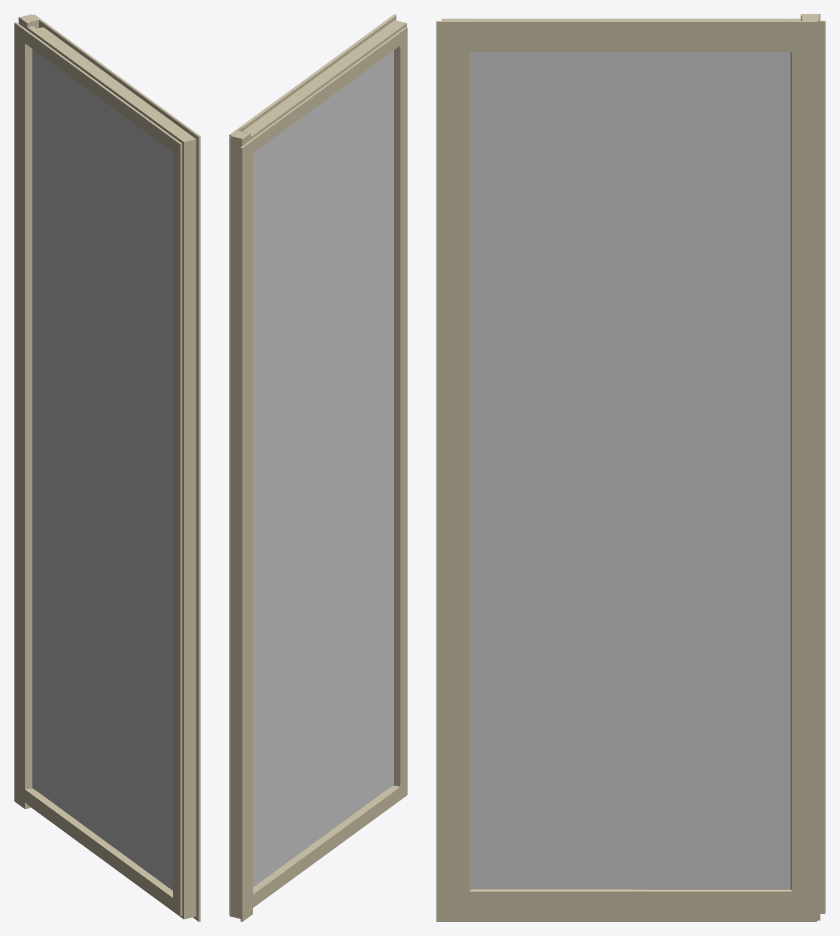
The model's file is MainDoor1aTransformed1.fbx.
3 views of the same model, side by side, from view 1: azimuth 30°, elevation 25°; view 2: azimuth 150°, elevation 25°; view 3: azimuth 270°, elevation 25° (orthographic). The views are drawn at different scales.
Parts seen in each view (by area): view 1: 45-25-28-344_- Aluminium Glazed Double Doors (02 & 10):EDT 1; view 2: 45-25-28-344_- Aluminium Glazed Double Doors (02 & 10):EDT 1; view 3: 45-25-28-344_- Aluminium Glazed Double Doors (02 & 10):EDT 1.
Part boxes in pixels (<box>): 45-25-28-344_- Aluminium Glazed Double Doors (02 & 10):EDT 1: <box>14,14,200,921</box>; 45-25-28-344_- Aluminium Glazed Double Doors (02 & 10):EDT 1: <box>229,14,407,921</box>; 45-25-28-344_- Aluminium Glazed Double Doors (02 & 10):EDT 1: <box>436,14,825,921</box>.
Size of the model in its own units: 0.0658 by 2.91 by 1.14.
